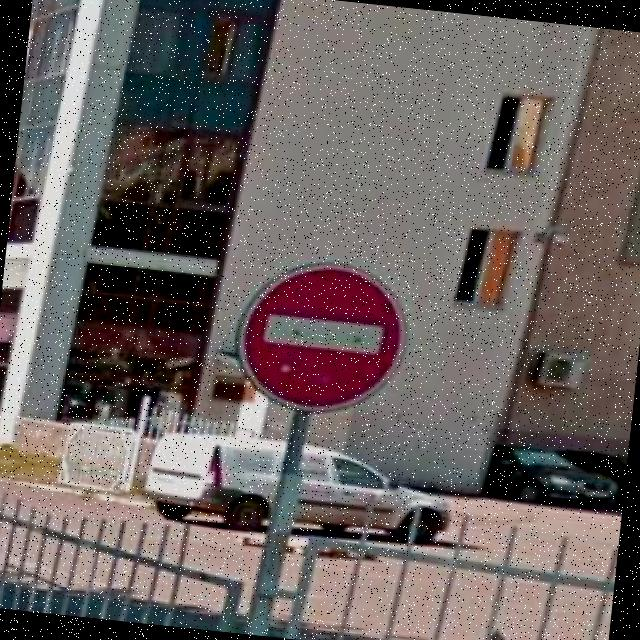Zakaz wjazdu: (223, 246, 418, 424)
